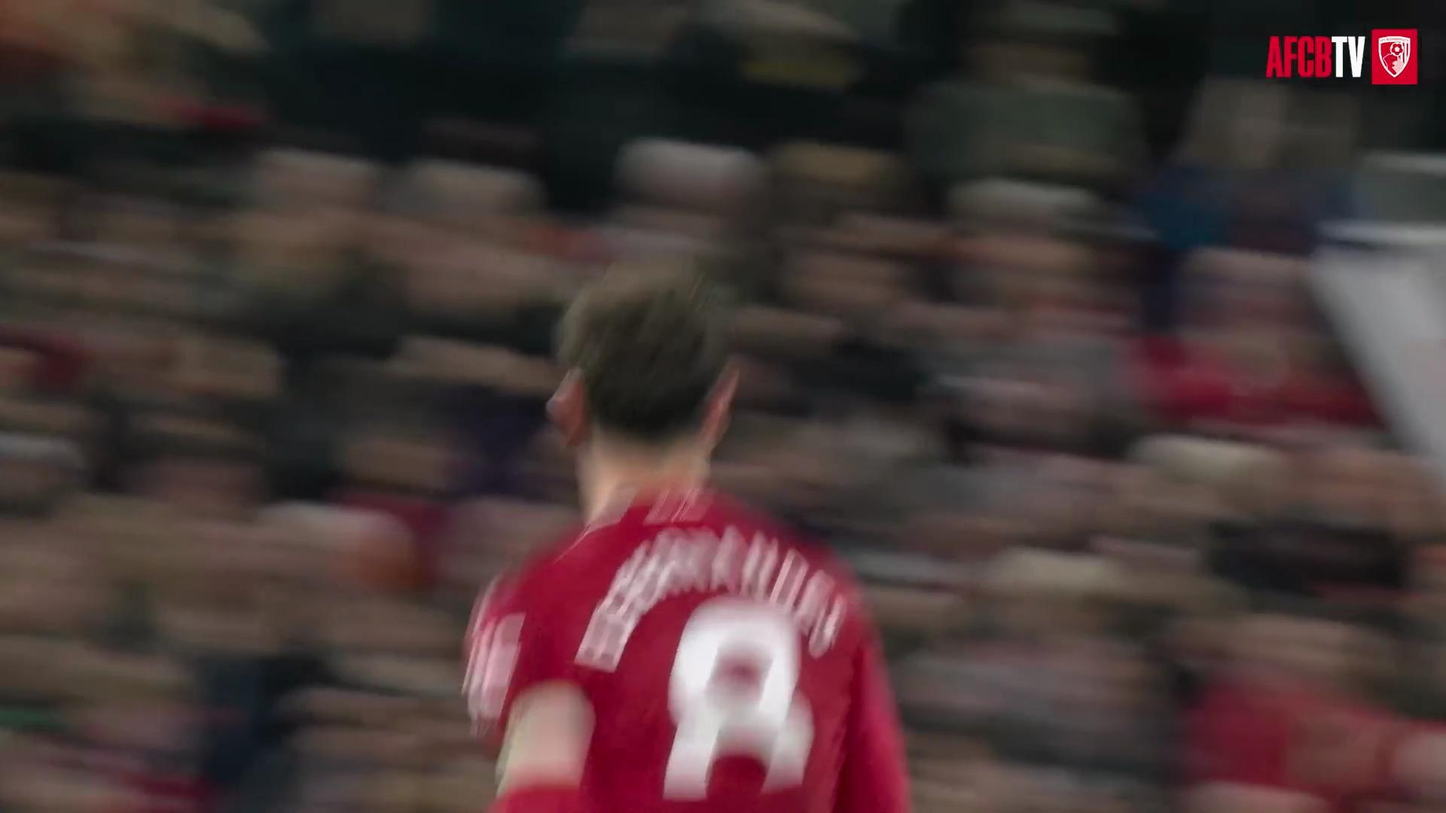player: (465, 271, 909, 812)
